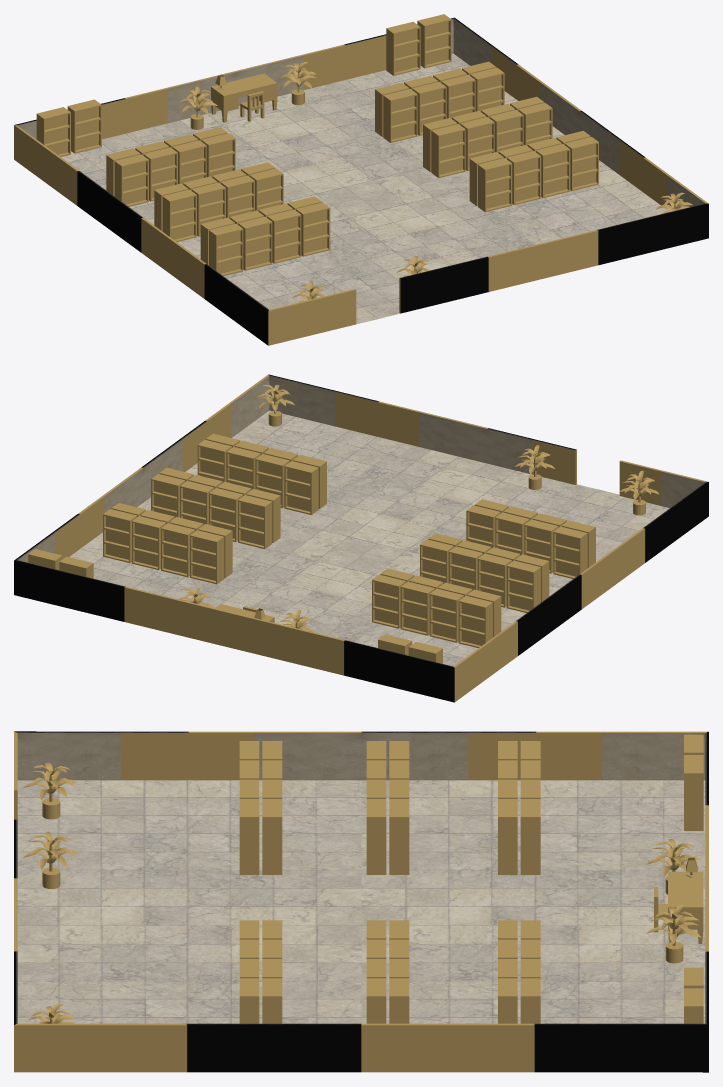
The model's file is Room_Custom03_Type01.fbx.
3 renders of one model, top to bottom at view 1: azimuth 30°, elevation 25°; view 2: azimuth 150°, elevation 25°; view 3: azimuth 270°, elevation 25°, orthographic. The views are drawn at different scales.
Parts seen in each view (by area): view 1: Room2x2_1Exit, Desk3, BookShelf023, BookShelf011, BookShelf019, BookShelf031, BookShelf014, BookShelf034, BookShelf026, BookShelf013, BookShelf08, BookShelf037 (+26 smaller); view 2: Room2x2_1Exit, BookShelf050, BookShelf039, BookShelf058, BookShelf046, BookShelf054, BookShelf042, BookShelf055, BookShelf056, BookShelf057, BookShelf059, BookShelf060 (+24 smaller); view 3: Room2x2_1Exit, Desk3, BookShelf029, BookShelf037, BookShelf045, BookShelf049, BookShelf057, BookShelf08, BookShelf017, Plant020, Plant024, Plant022 (+8 smaller).
Boxes of the visible parts, x1=… form: Room2x2_1Exit: x1=14, y1=17, x2=708, y2=345; Desk3: x1=211, y1=73, x2=277, y2=122; BookShelf023: x1=431, y1=124, x2=465, y2=178; BookShelf011: x1=386, y1=21, x2=420, y2=75; BookShelf019: x1=383, y1=89, x2=417, y2=142; BookShelf031: x1=478, y1=158, x2=512, y2=212; BookShelf014: x1=114, y1=154, x2=148, y2=206; BookShelf034: x1=209, y1=223, x2=243, y2=275; BookShelf026: x1=162, y1=189, x2=196, y2=241; BookShelf013: x1=417, y1=14, x2=451, y2=68; BookShelf08: x1=67, y1=99, x2=101, y2=153; BookShelf037: x1=296, y1=202, x2=330, y2=256; Room2x2_1Exit: x1=14, y1=374, x2=708, y2=702; BookShelf050: x1=238, y1=495, x2=272, y2=548; BookShelf039: x1=284, y1=461, x2=318, y2=514; BookShelf058: x1=190, y1=530, x2=224, y2=584; BookShelf046: x1=506, y1=560, x2=540, y2=612; BookShelf054: x1=458, y1=596, x2=492, y2=648; BookShelf042: x1=553, y1=526, x2=587, y2=578; BookShelf055: x1=429, y1=588, x2=463, y2=642; BookShelf056: x1=400, y1=581, x2=434, y2=635; BookShelf057: x1=372, y1=574, x2=406, y2=628; BookShelf059: x1=161, y1=523, x2=195, y2=577; BookShelf060: x1=132, y1=516, x2=166, y2=570; Room2x2_1Exit: x1=14, y1=731, x2=708, y2=1072; Desk3: x1=668, y1=857, x2=703, y2=943; BookShelf029: x1=366, y1=799, x2=386, y2=874; BookShelf037: x1=239, y1=799, x2=259, y2=874; BookShelf045: x1=262, y1=799, x2=282, y2=874; BookShelf049: x1=389, y1=799, x2=409, y2=874; BookShelf057: x1=520, y1=799, x2=540, y2=874; BookShelf08: x1=684, y1=755, x2=703, y2=830; BookShelf017: x1=498, y1=799, x2=517, y2=874; Plant020: x1=646, y1=905, x2=700, y2=963; Plant024: x1=22, y1=762, x2=77, y2=819; Plant022: x1=23, y1=832, x2=77, y2=888.
Size of the model in its own units: 20 by 1.86 by 20.
